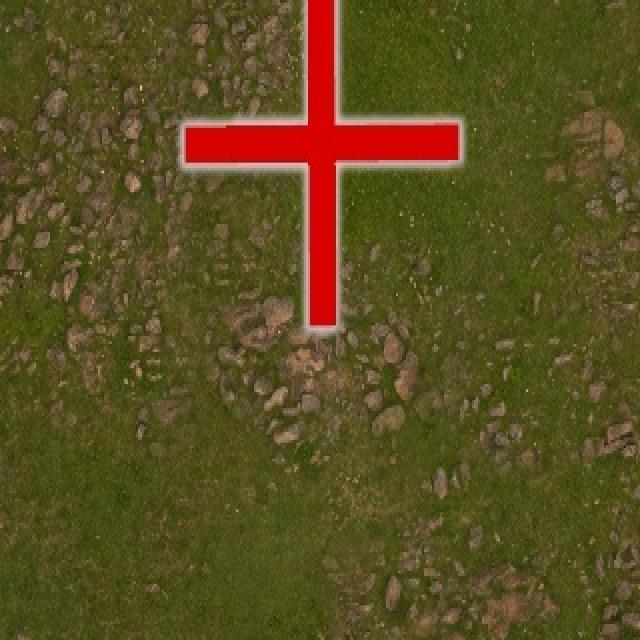x_marker: (183, 0, 459, 328)
